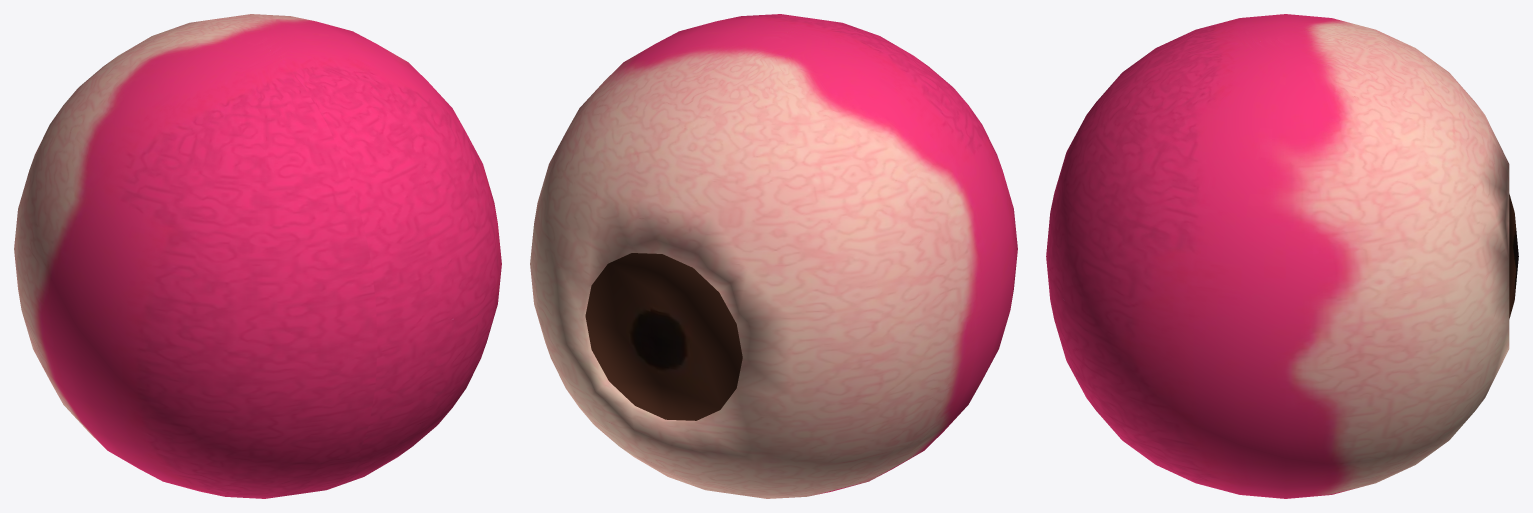
Rendered from eye.glb.
3 renders of one model, left to right at view 1: azimuth 30°, elevation 25°; view 2: azimuth 150°, elevation 25°; view 3: azimuth 270°, elevation 25°, orthographic.
Parts seen in each view (by area): view 1: Eyeball; view 2: Eyeball; view 3: Eyeball.
Part boxes in pixels (x1=…): Eyeball: x1=14, y1=14, x2=501, y2=498; Eyeball: x1=530, y1=14, x2=1017, y2=498; Eyeball: x1=1046, y1=14, x2=1518, y2=498.
Bounding box in the file's own units: 0.4198 × 0.4198 × 0.414.
2 materials, 2 textured.
